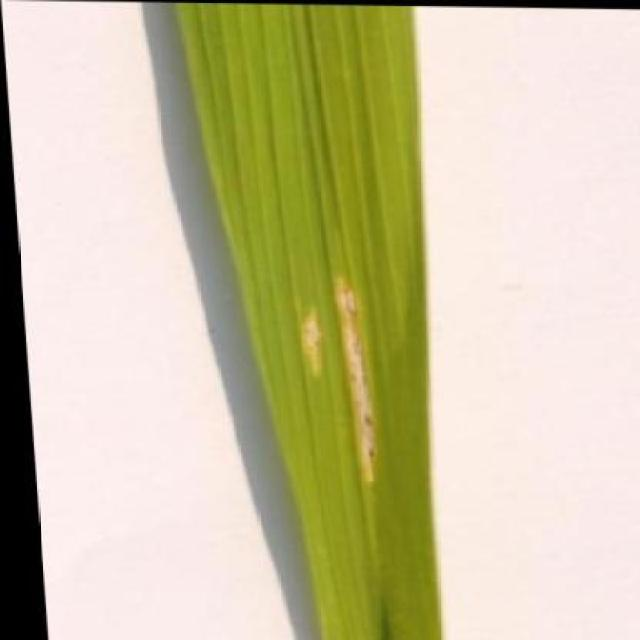Brown_Spot: (252, 174, 418, 506)
